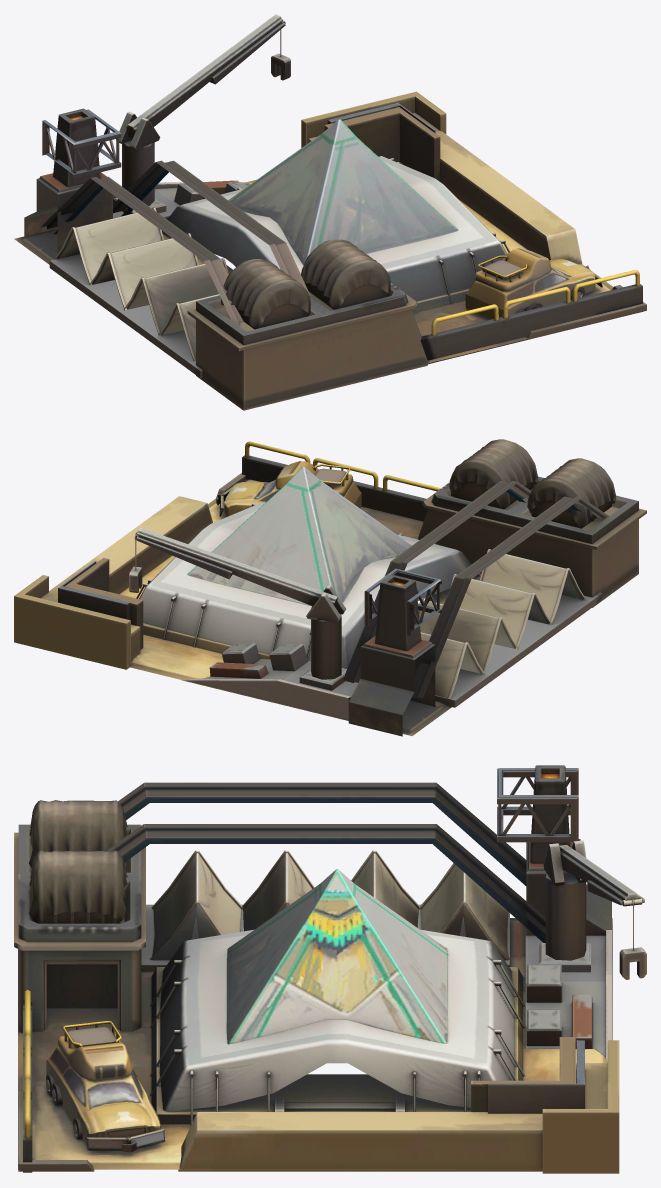
File: trap_446_xbfdtion1.fbx
The picture shows the model from 3 angles, top to bottom: view 1: azimuth 30°, elevation 25°; view 2: azimuth 150°, elevation 25°; view 3: azimuth 270°, elevation 25°; orthographic projection. The views are drawn at different scales.
Parts seen in each view (by area): view 1: trap_446_xbfdtion1; view 2: trap_446_xbfdtion1; view 3: trap_446_xbfdtion1.
Boxes of the visible parts, x1,y1,x2,y2 form: trap_446_xbfdtion1: (14,14,646,410); trap_446_xbfdtion1: (14,439,646,736); trap_446_xbfdtion1: (14,765,646,1173).
Size of the model in its own units: 3.02 by 1.11 by 3.12.
Materials: 1 (1 with a texture image).
